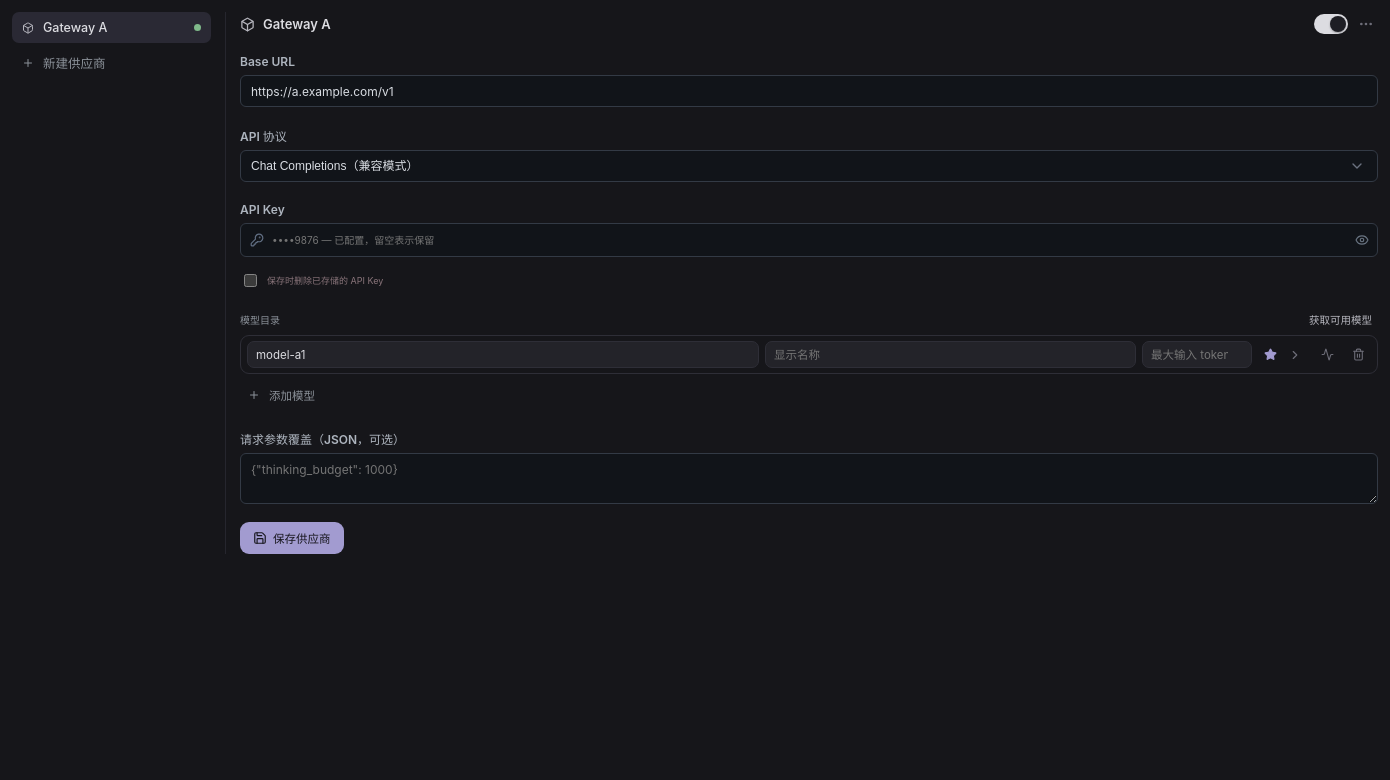
Test case: ProviderManager › deletes a provider from the ⋯ menu after confirmation
The image size is (1390, 780).
Expected: the button "删除供应商" is not shown
Click the button named "更多操作": (1366,24) [1354,12,1378,36]
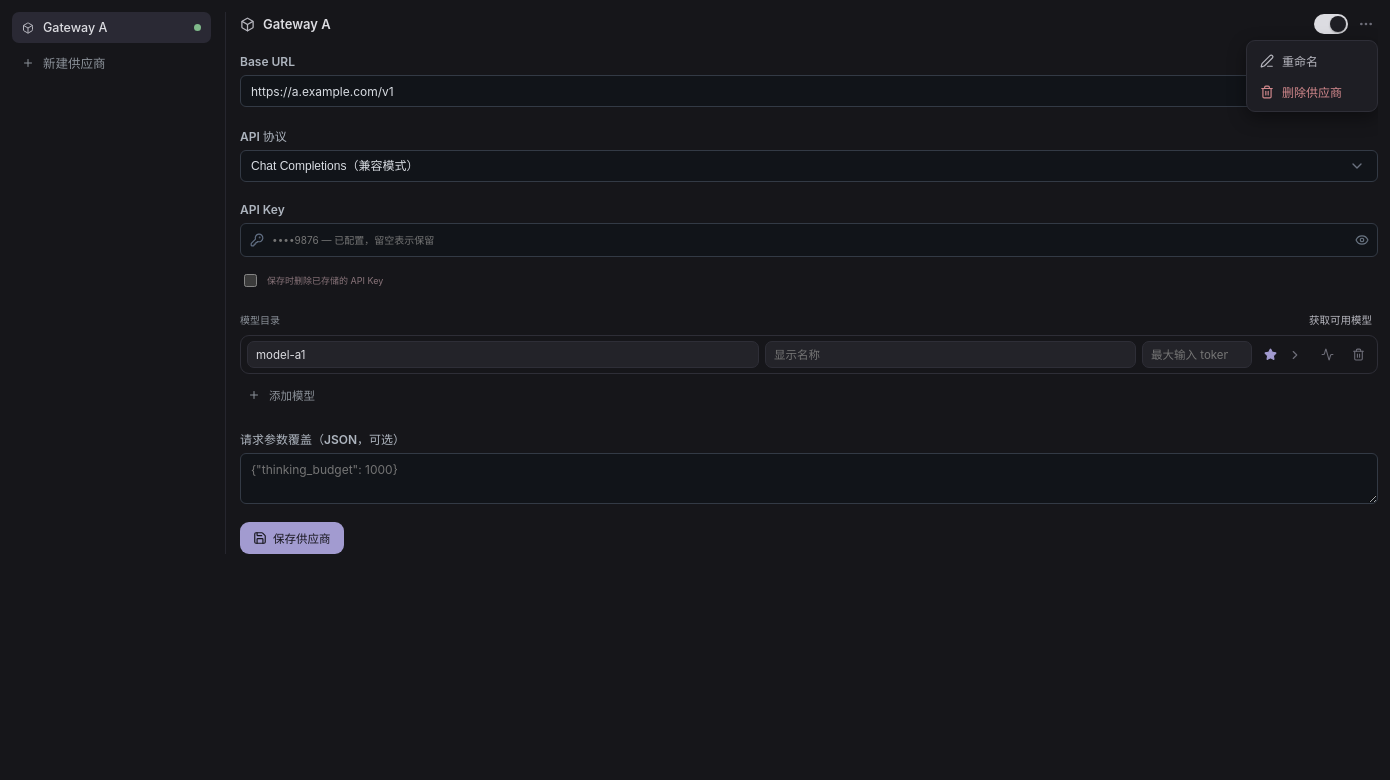
Click the menu item "删除供应商": (1312,92) [1251,76,1373,107]
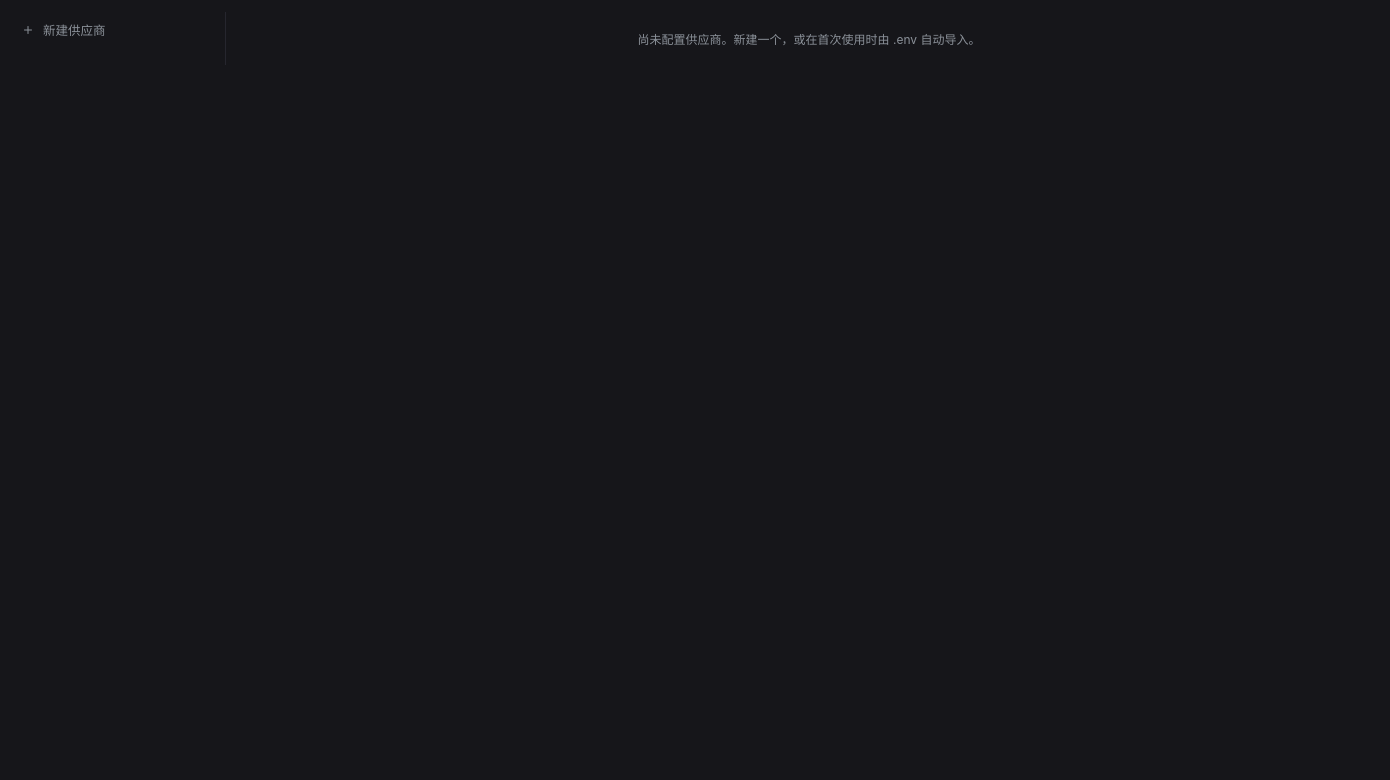
Result: the text "尚未配置供应商。新建一个，或在首次使用时由 .env 自动导入。" is shown at [638,32,980,47]
